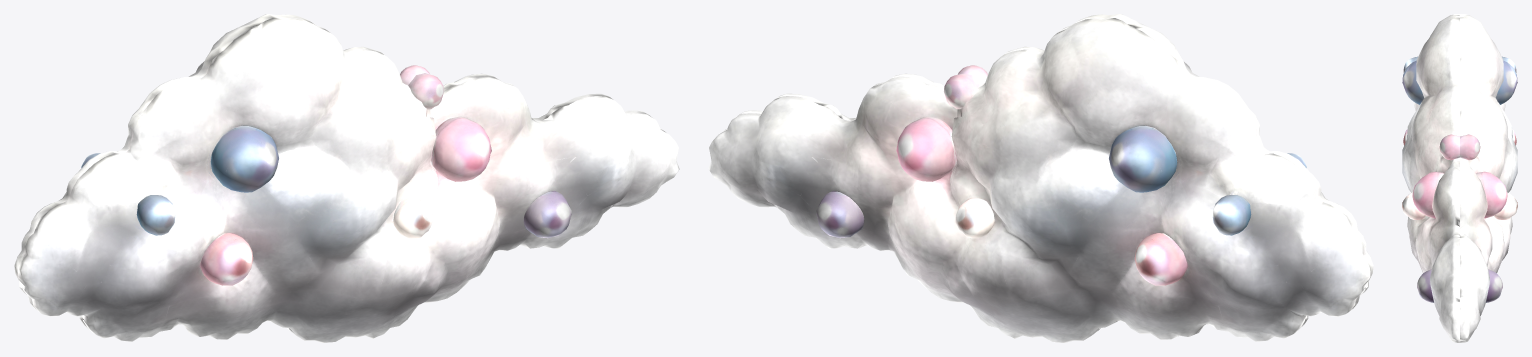
Rendered from snow360-sky-cloud-1.glb.
3 renders of one model, left to right at view 1: azimuth 30°, elevation 25°; view 2: azimuth 150°, elevation 25°; view 3: azimuth 270°, elevation 25°, orthographic. The views are drawn at different scales.
Parts seen in each view (by area): view 1: Cloud1; view 2: Cloud1; view 3: Cloud1.
Part boxes in pixels (<box>): Cloud1: <box>14,14,679,342</box>; Cloud1: <box>708,14,1373,342</box>; Cloud1: <box>1402,14,1517,342</box>.
Size of the model in its own units: 0.9565 by 0.4756 by 0.2031.
1 material, 1 textured.
